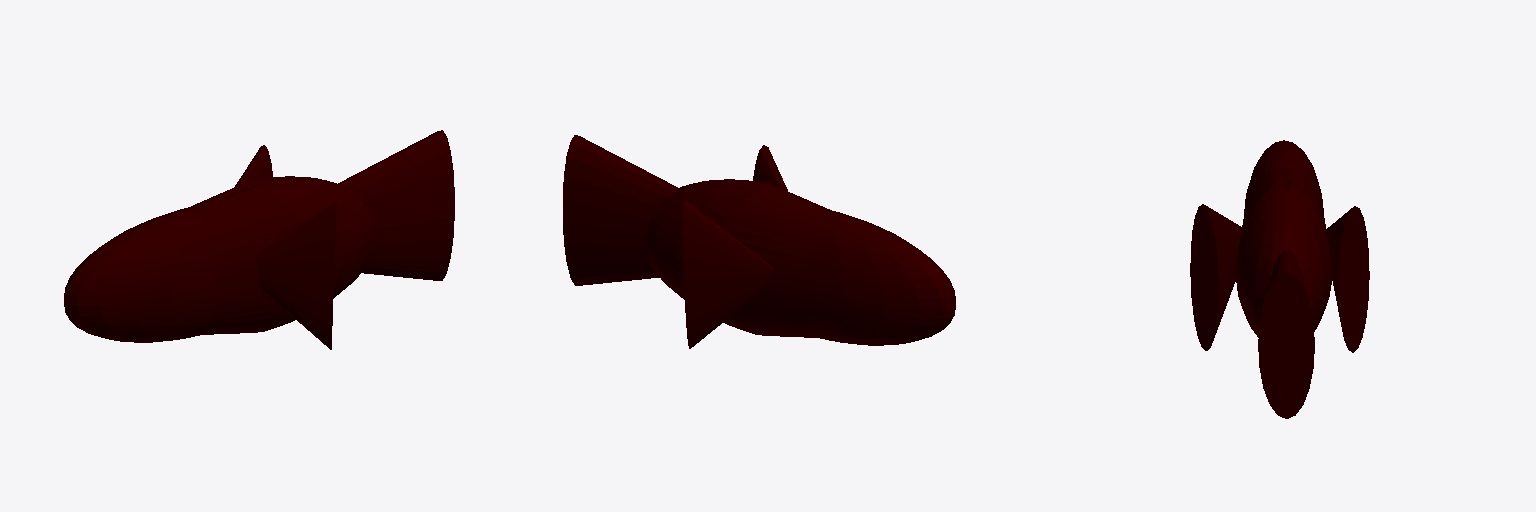
Rendered from fish1.obj.
3 views of the same model, side by side, from view 1: azimuth 30°, elevation 25°; view 2: azimuth 150°, elevation 25°; view 3: azimuth 270°, elevation 25° (orthographic).
Parts seen in each view (by area): view 1: pCone4; view 2: pCone4; view 3: pCone4.
Part boxes in pixels (x1,y1,x2,y2): pCone4: (64,130,454,349); pCone4: (563,135,955,348); pCone4: (1190,140,1369,418).
Bounding box in the file's own units: 543 × 209 × 221.